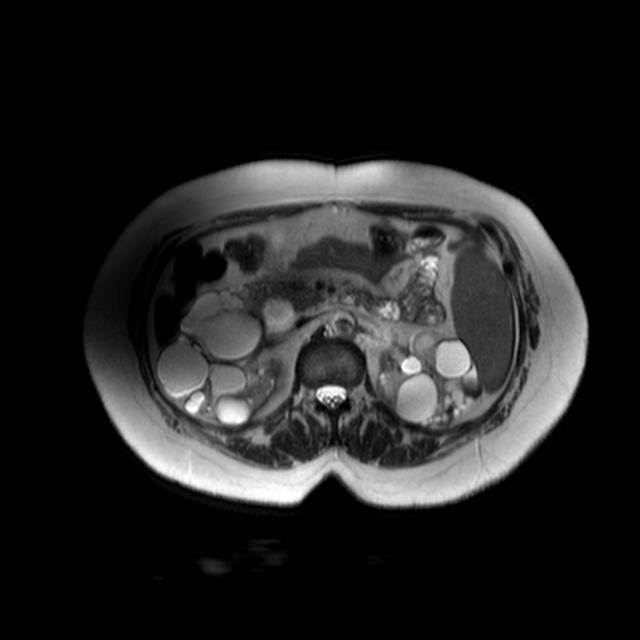sag: (157, 284, 293, 426)
sol: (374, 323, 479, 428)
